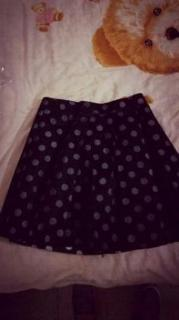skirt: (0, 92, 179, 255)
